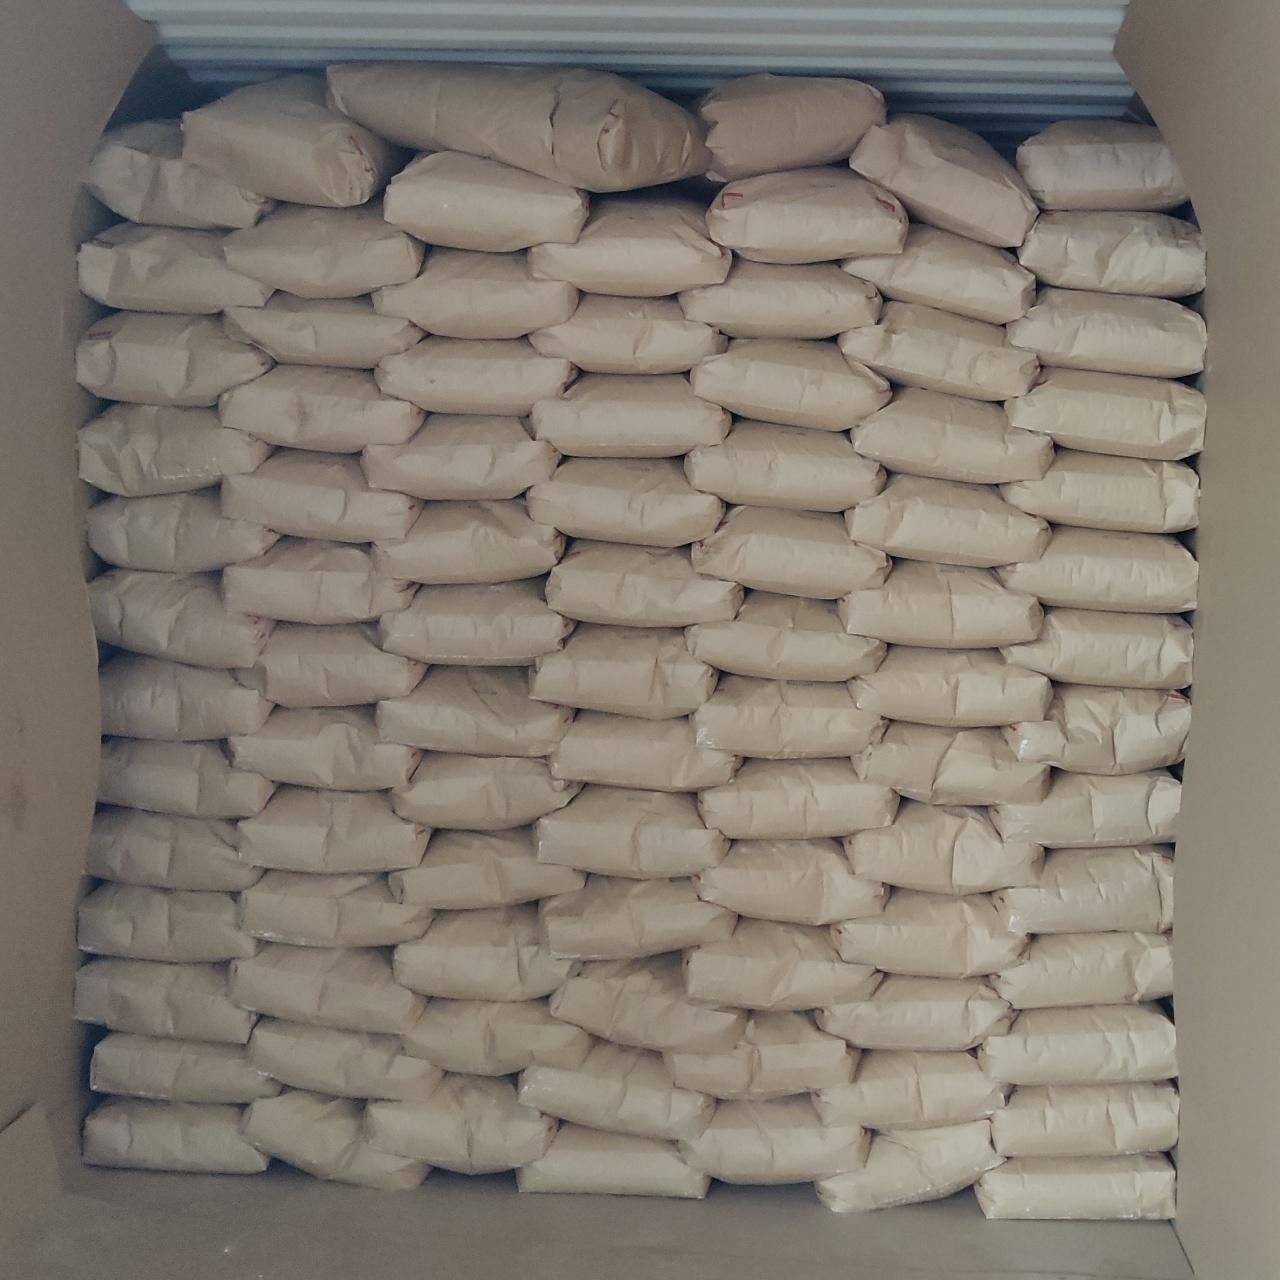sack: (328, 63, 709, 191), (183, 75, 401, 207), (851, 114, 1039, 246), (383, 151, 588, 252), (222, 197, 425, 297), (88, 121, 274, 229), (697, 75, 885, 181), (706, 165, 908, 263), (552, 952, 745, 1053), (527, 199, 730, 295), (840, 224, 1035, 324), (839, 302, 1039, 400), (851, 388, 1051, 483), (845, 474, 1050, 566), (372, 247, 579, 339), (685, 418, 886, 512), (519, 1041, 713, 1138), (76, 311, 274, 406), (363, 1076, 554, 1173), (844, 801, 1042, 894), (1005, 367, 1204, 459), (89, 568, 274, 668), (222, 450, 423, 542), (683, 917, 879, 1010), (244, 1090, 429, 1189), (1006, 286, 1205, 377), (690, 339, 890, 430), (529, 622, 717, 719), (218, 365, 424, 452), (79, 403, 274, 496), (692, 506, 888, 598), (375, 666, 574, 756), (838, 559, 1042, 647), (533, 787, 727, 879), (686, 591, 885, 680), (79, 223, 273, 313), (527, 458, 724, 547), (377, 577, 576, 665), (832, 888, 1027, 978), (816, 1119, 1002, 1212), (394, 905, 576, 1000), (999, 526, 1197, 613), (545, 540, 743, 627), (229, 944, 421, 1033), (361, 414, 560, 499), (237, 787, 430, 873), (222, 538, 417, 624), (693, 839, 888, 925), (1001, 449, 1198, 533), (1003, 685, 1190, 774), (679, 258, 883, 339), (679, 1096, 869, 1183), (88, 486, 280, 572), (665, 1013, 857, 1098), (530, 374, 730, 456), (542, 874, 736, 959), (978, 1003, 1177, 1085), (1017, 211, 1204, 298), (849, 647, 1051, 727), (697, 760, 899, 839), (855, 721, 1047, 804), (374, 336, 577, 415), (690, 675, 881, 758), (372, 501, 565, 583), (229, 707, 418, 790), (248, 1017, 441, 1099), (76, 958, 256, 1046), (390, 828, 585, 908), (993, 846, 1173, 933), (100, 651, 272, 741), (549, 712, 740, 792), (223, 292, 425, 368), (1017, 120, 1189, 210), (527, 294, 726, 372), (238, 625, 427, 706), (1001, 608, 1192, 688), (816, 975, 1012, 1051), (237, 870, 429, 946), (401, 999, 593, 1075), (817, 1051, 1003, 1130), (87, 808, 263, 891), (392, 753, 580, 829), (992, 771, 1180, 847), (97, 738, 275, 818), (516, 1124, 707, 1198), (79, 883, 256, 962), (990, 932, 1172, 1009), (990, 1082, 1179, 1156), (91, 1032, 282, 1103), (84, 1099, 268, 1173), (975, 1155, 1175, 1220)
